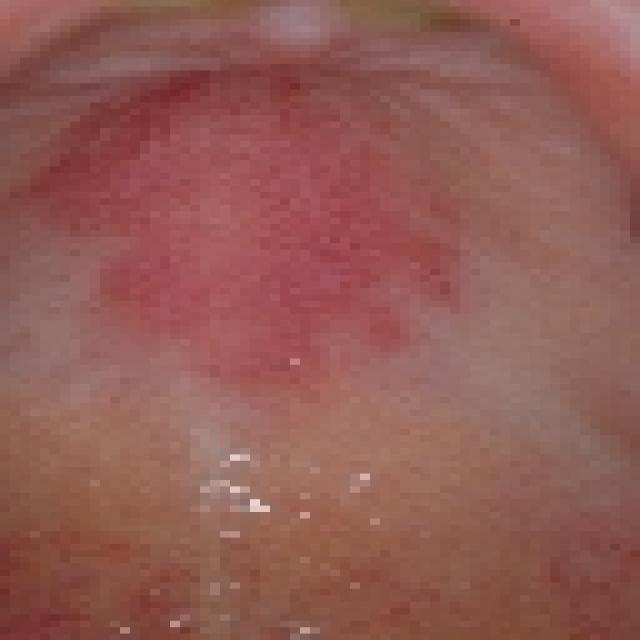lupus: (38, 78, 490, 386)
